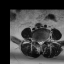CCS_stenosis: (39, 38, 41, 47)
LFS_stenosis: (43, 37, 45, 44)
LLS_normal: (41, 38, 43, 46)
RFS_stenosis: (35, 38, 37, 44)
RLS_normal: (37, 38, 39, 46)
